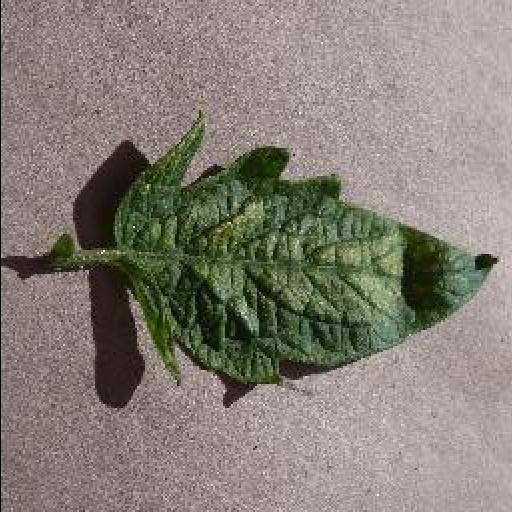disease_tomato: (114, 111, 496, 389)
